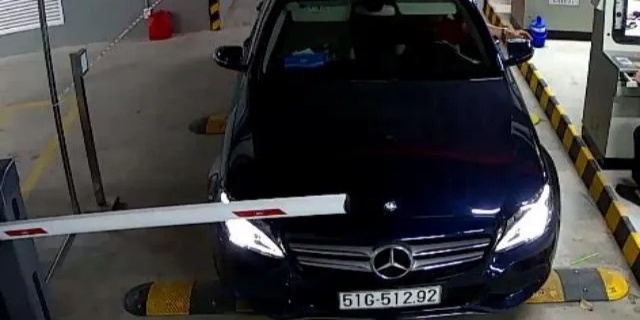bien_so: (340, 287, 439, 308)
